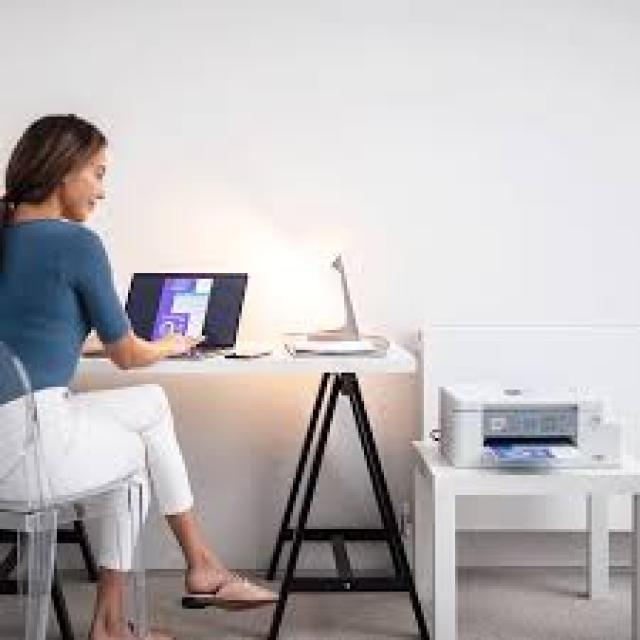printer: (435, 381, 623, 469)
